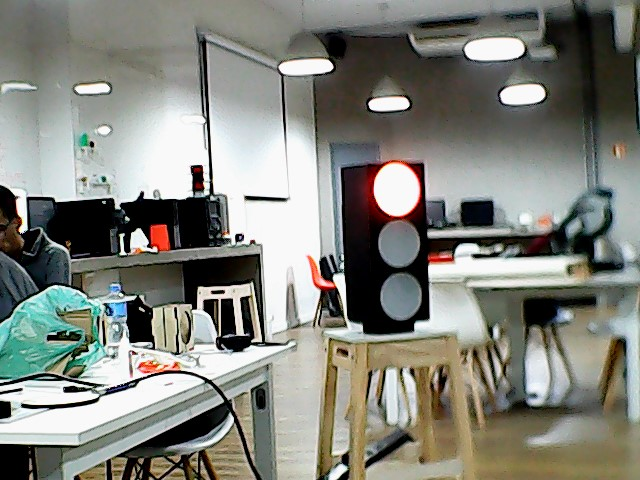vermelho: (340, 159, 429, 322)
